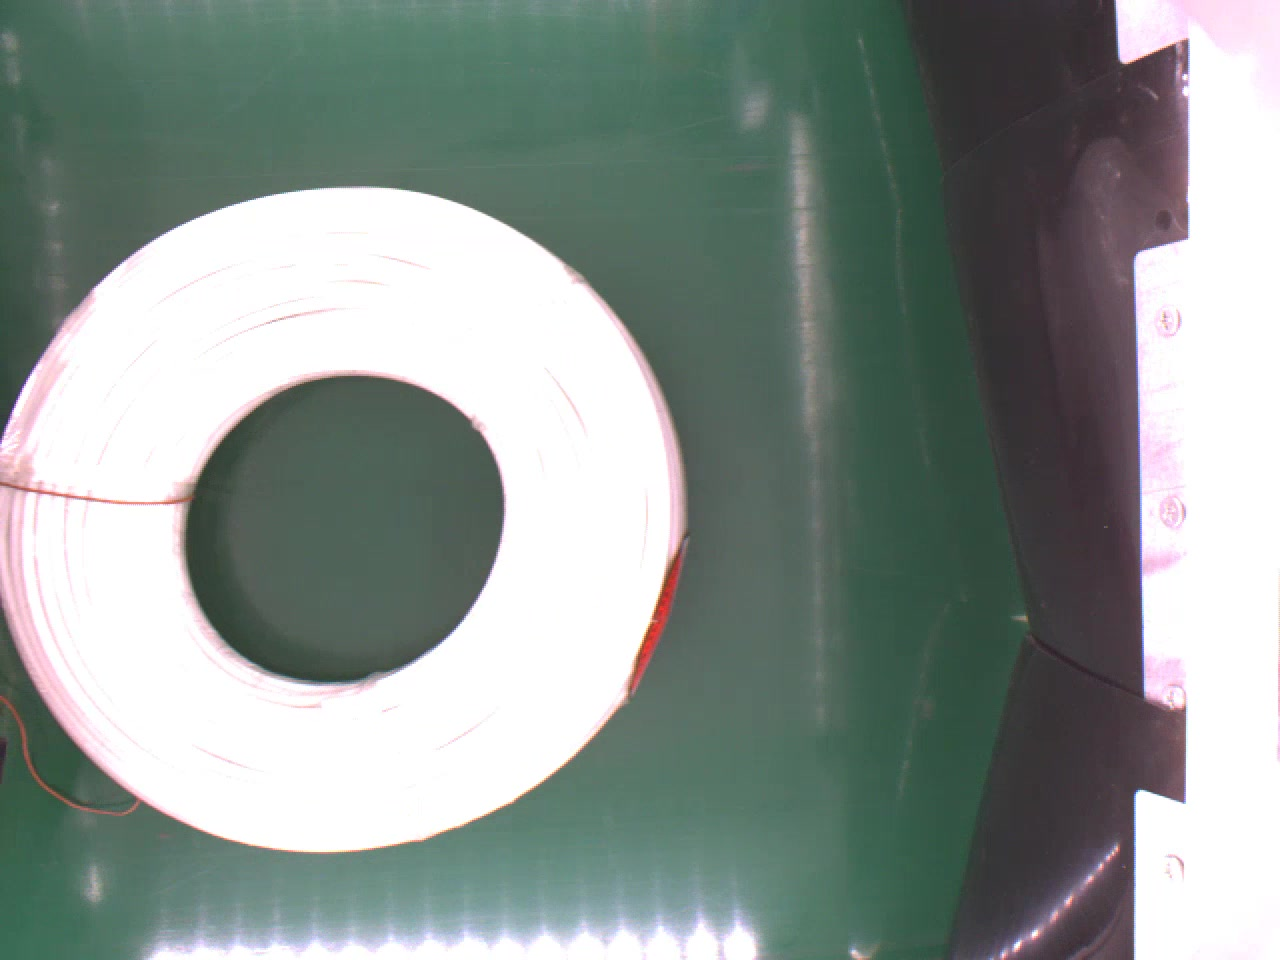white: (0, 175, 684, 845)
